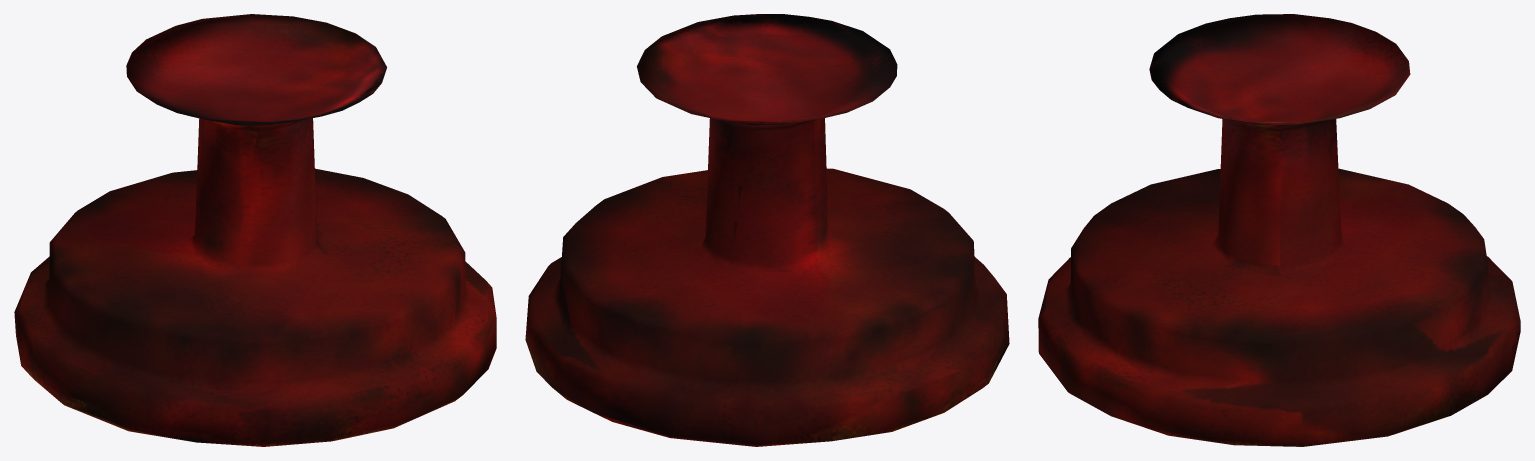
File: Altar.glb
3 renders of one model, left to right at view 1: azimuth 30°, elevation 25°; view 2: azimuth 150°, elevation 25°; view 3: azimuth 270°, elevation 25°, orthographic.
Parts seen in each view (by area): view 1: Altar; view 2: Altar; view 3: Altar.
Boxes of the visible parts, x1=… form: Altar: x1=14, y1=14, x2=496, y2=446; Altar: x1=525, y1=14, x2=1009, y2=446; Altar: x1=1038, y1=14, x2=1520, y2=446.
Bounding box in the file's own units: 2 × 1.27 × 2.
1 material, 1 textured.
